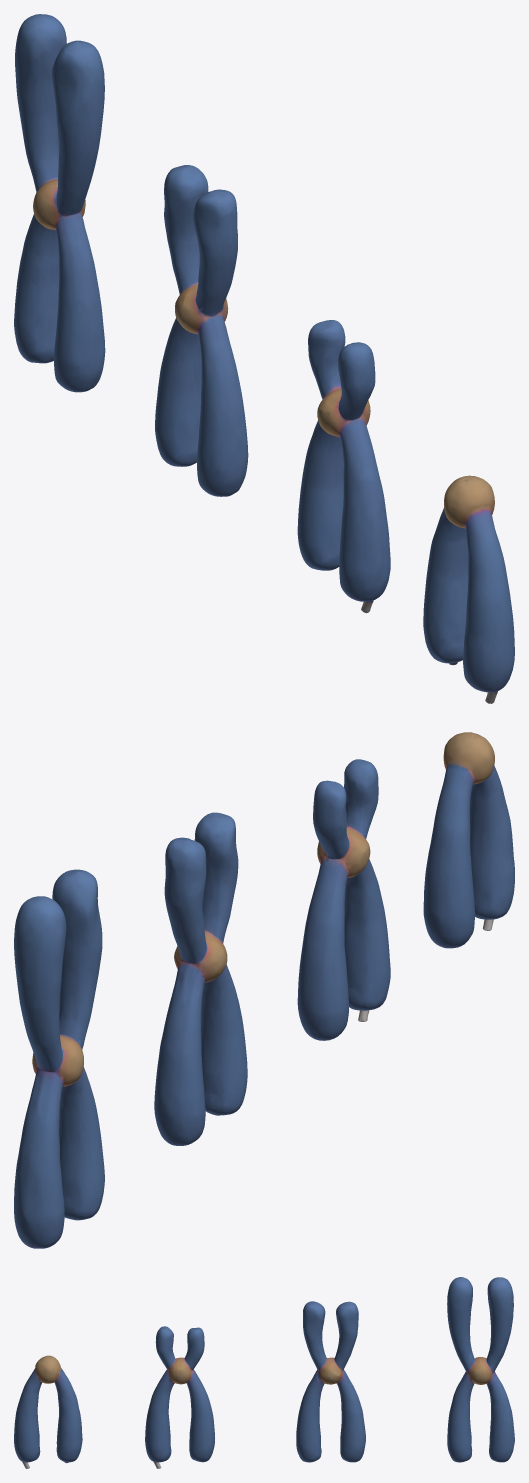
The model's file is Types_of_chromosome.glb.
The picture shows the model from 3 angles, top to bottom: view 1: azimuth 30°, elevation 25°; view 2: azimuth 150°, elevation 25°; view 3: azimuth 270°, elevation 25°; orthographic projection. The views are drawn at different scales.
Visible parts, largest first — view 1: tripo_node_9bf4203a-ad6f-4e5d-85f0-4cc207af5975; view 2: tripo_node_9bf4203a-ad6f-4e5d-85f0-4cc207af5975; view 3: tripo_node_9bf4203a-ad6f-4e5d-85f0-4cc207af5975.
Part boxes in pixels (<box>): tripo_node_9bf4203a-ad6f-4e5d-85f0-4cc207af5975: <box>14,14,514,703</box>; tripo_node_9bf4203a-ad6f-4e5d-85f0-4cc207af5975: <box>14,732,514,1248</box>; tripo_node_9bf4203a-ad6f-4e5d-85f0-4cc207af5975: <box>14,1277,514,1468</box>.
Bounding box in the file's own units: 0.0572 × 0.4188 × 1.
Materials: 1 (1 with a texture image).
